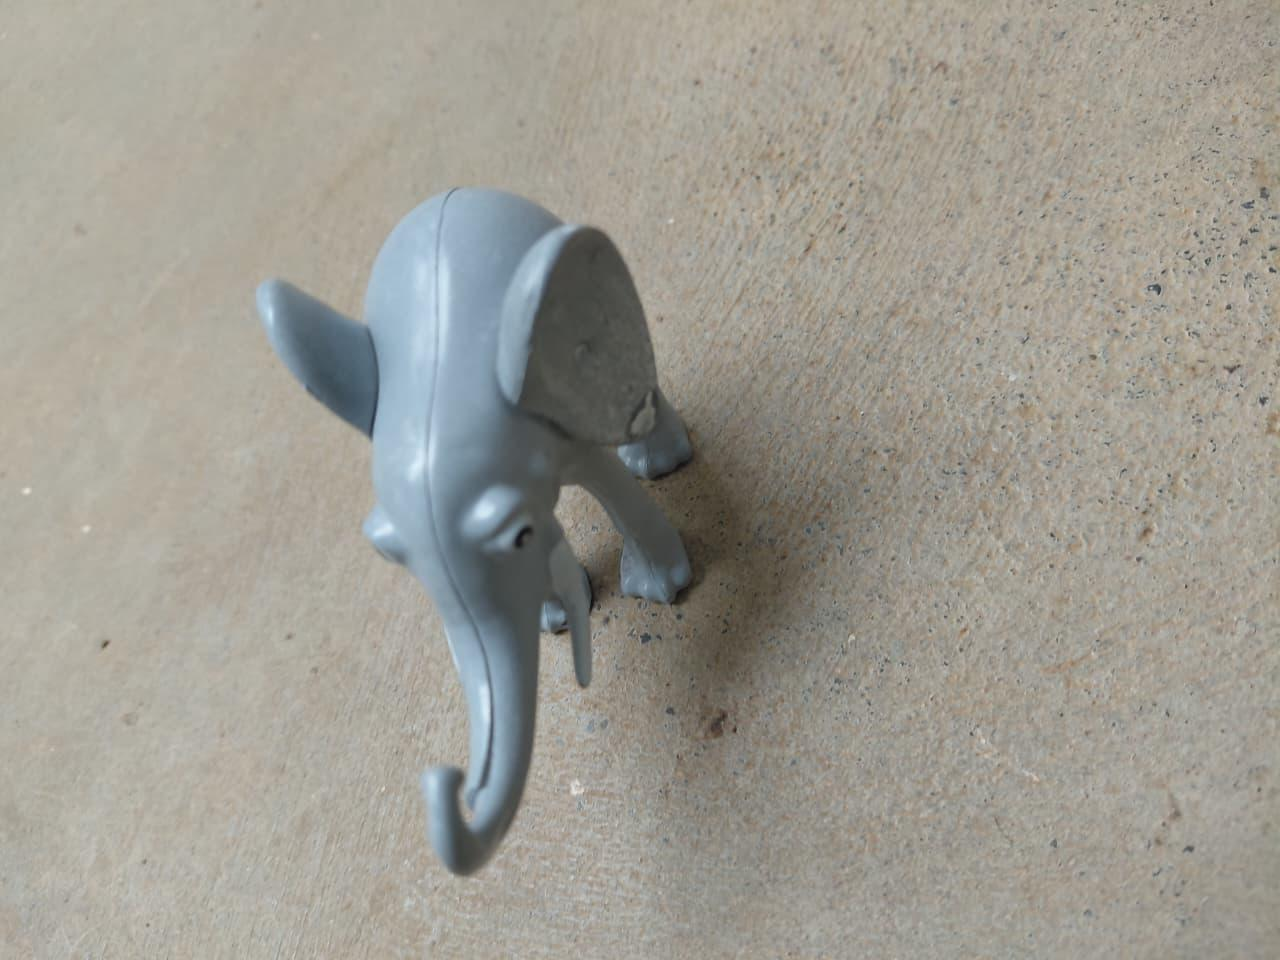elephant: (242, 158, 706, 872)
